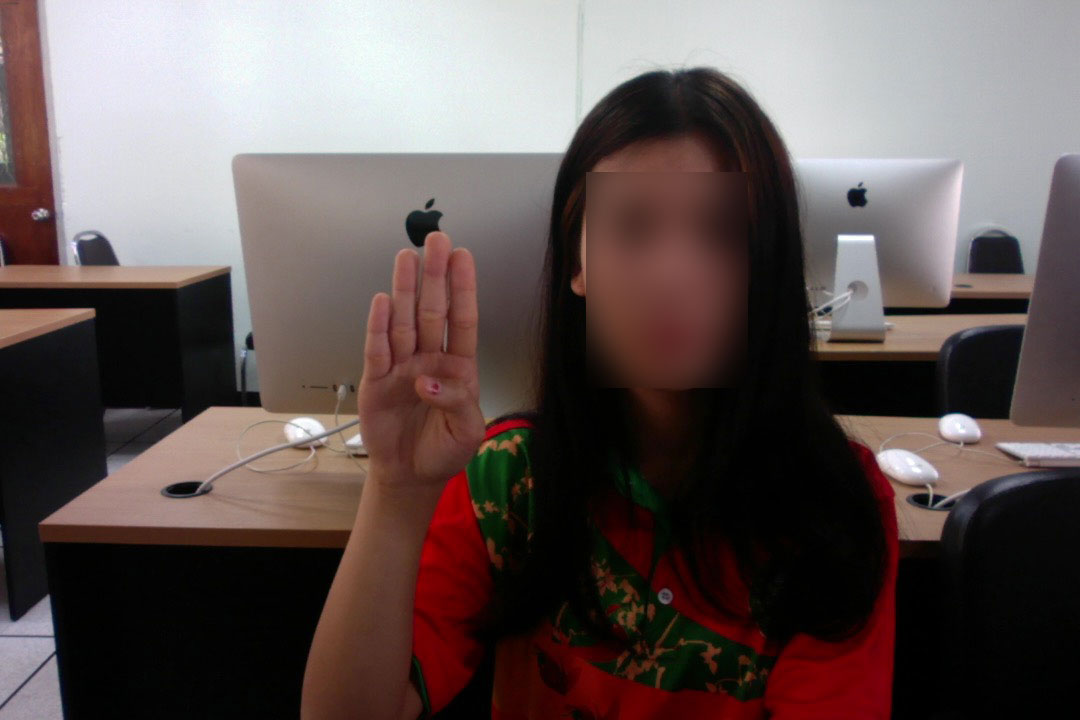bor: (353, 224, 490, 504)
